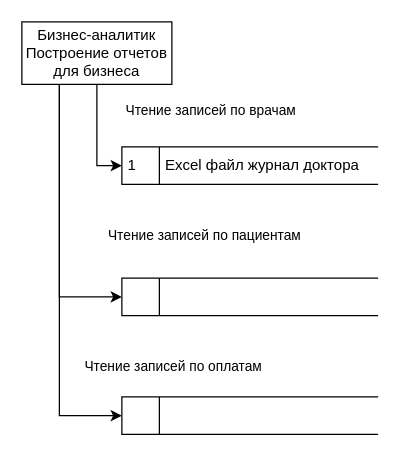
This 400x456 diagram has some shape labels left out. Here are the shapes that lost their labels. From the top down, the box of each, then its label:
(121, 277, 378, 316): 2 Excel файл учет пациентов
(121, 396, 378, 434): 3 Excel файл учет оплат
